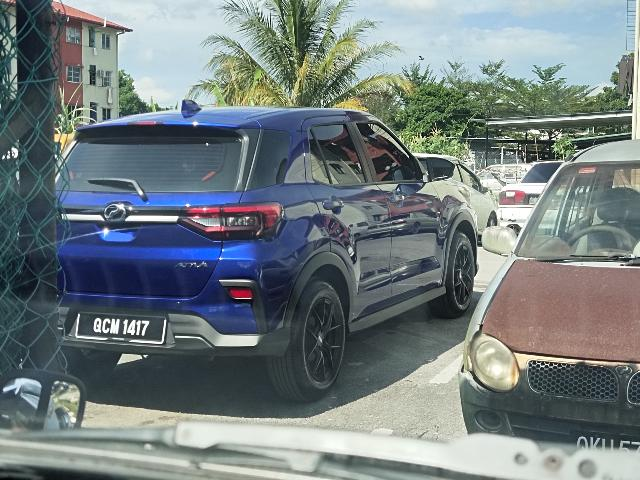License_Plate: (77, 313, 168, 345)
car: (50, 91, 493, 393)
